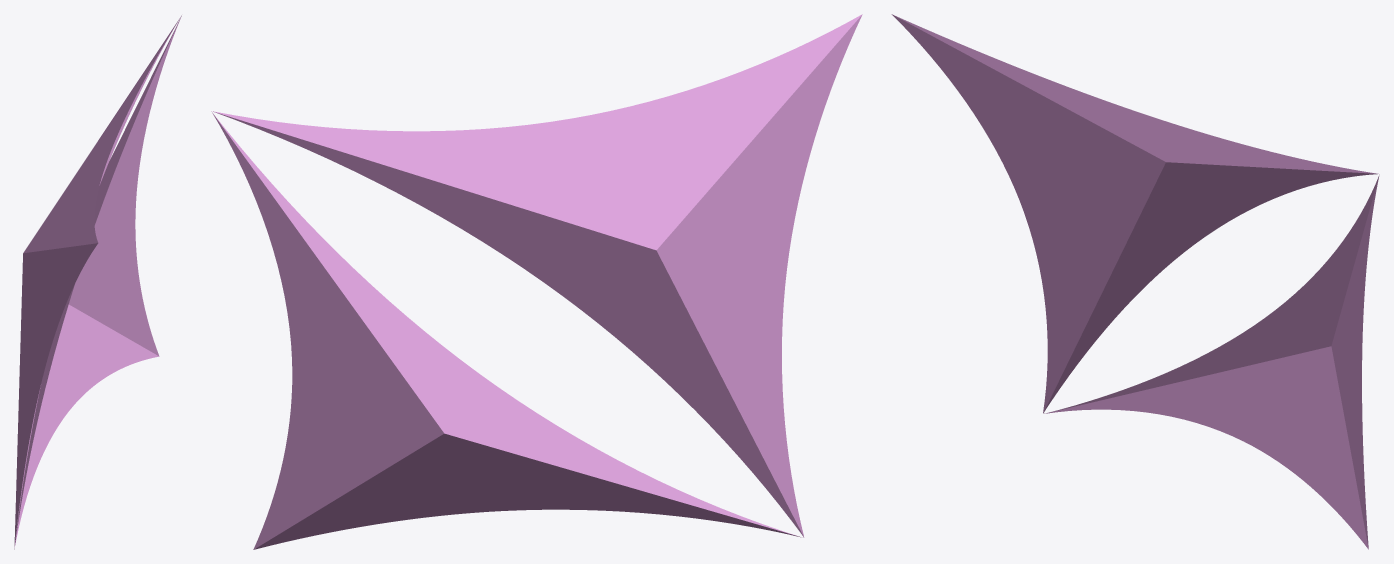
File: TYPE5-5.glb
3 views of the same model, side by side, from view 1: azimuth 30°, elevation 25°; view 2: azimuth 150°, elevation 25°; view 3: azimuth 270°, elevation 25° (orthographic). The views are drawn at different scales.
Parts seen in each view (by area): view 1: TYPE5-5 (×6); view 2: TYPE5-5 (×6); view 3: TYPE5-5 (×6).
Boxes of the visible parts, box(x1,y1,x2,y2) form: TYPE5-5 (×6): box(14, 16, 181, 549); TYPE5-5 (×6): box(212, 14, 862, 549); TYPE5-5 (×6): box(891, 14, 1379, 549).
Bounding box in the file's own units: 7.02 × 7.66 × 8.1.
